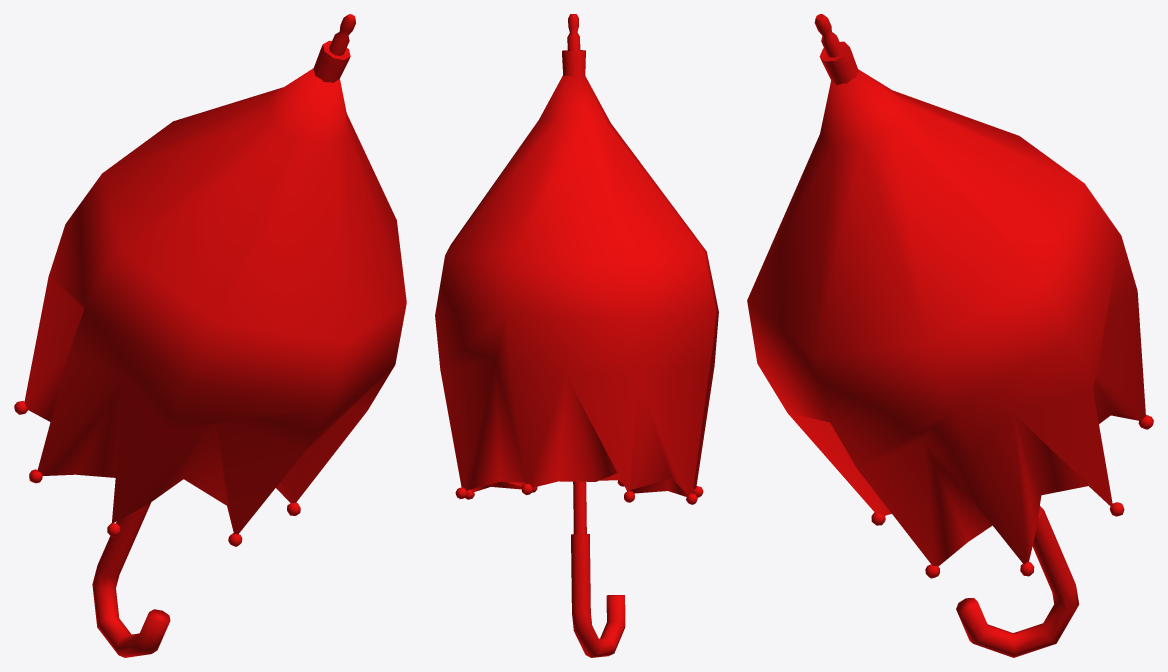
File: Umbrella_VFX.fbx
The picture shows the model from 3 angles, left to right: view 1: azimuth 30°, elevation 25°; view 2: azimuth 150°, elevation 25°; view 3: azimuth 270°, elevation 25°; orthographic projection. The views are drawn at different scales.
Visible parts, largest first — view 1: Umbrella; view 2: Umbrella; view 3: Umbrella.
Boxes of the visible parts, <box> form: Umbrella: <box>14,14,406,657</box>; Umbrella: <box>435,14,718,657</box>; Umbrella: <box>747,14,1153,657</box>.
Bounding box in the file's own units: 16.98 × 33 × 17.15.
